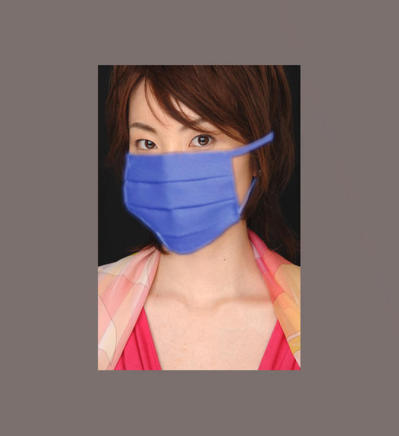face_mask: (120, 74, 251, 249)
